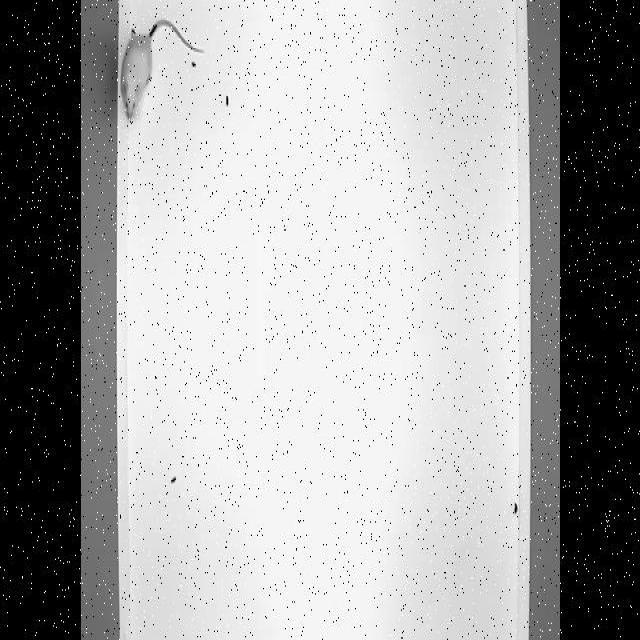rat: (121, 20, 205, 124)
